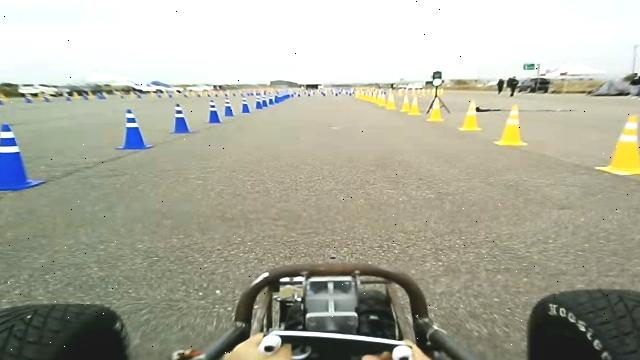blue cone: (0, 123, 46, 191), (114, 108, 153, 150), (169, 102, 192, 134), (206, 99, 222, 123), (223, 96, 235, 116), (240, 95, 252, 114), (254, 95, 263, 109)
yellow cone: (595, 114, 640, 176), (493, 104, 527, 146), (458, 100, 482, 132), (426, 97, 444, 121), (407, 96, 421, 115), (399, 94, 410, 112), (386, 93, 396, 110), (377, 91, 387, 107)
